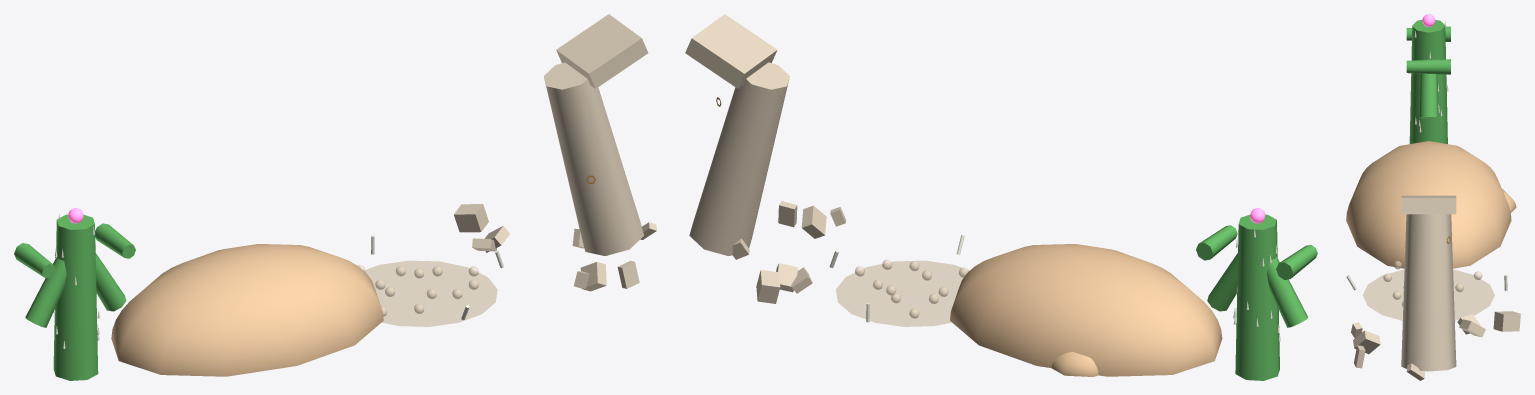
Rendered from obstacles_desert_mobile.glb.
3 renders of one model, left to right at view 1: azimuth 30°, elevation 25°; view 2: azimuth 150°, elevation 25°; view 3: azimuth 270°, elevation 25°, orthographic. The views are drawn at different scales.
Visible parts, largest first — view 1: sandDune, ancientRuin, cactus, quicksand; view 2: sandDune, ancientRuin, cactus, quicksand; view 3: sandDune, ancientRuin, cactus, quicksand.
Boxes of the visible parts, <box> form: sandDune: <box>111,244,383,376</box>; ancientRuin: <box>453,14,656,291</box>; cactus: <box>14,208,135,380</box>; quicksand: <box>358,235,503,326</box>; sandDune: <box>950,244,1222,376</box>; ancientRuin: <box>685,14,846,303</box>; cactus: <box>1196,208,1317,380</box>; quicksand: <box>829,235,969,326</box>; sandDune: <box>1346,141,1516,268</box>; ancientRuin: <box>1351,195,1520,380</box>; cactus: <box>1406,14,1450,143</box>; quicksand: <box>1346,261,1507,320</box>.
Size of the model in its own units: 10.82 by 3.71 by 3.17.
